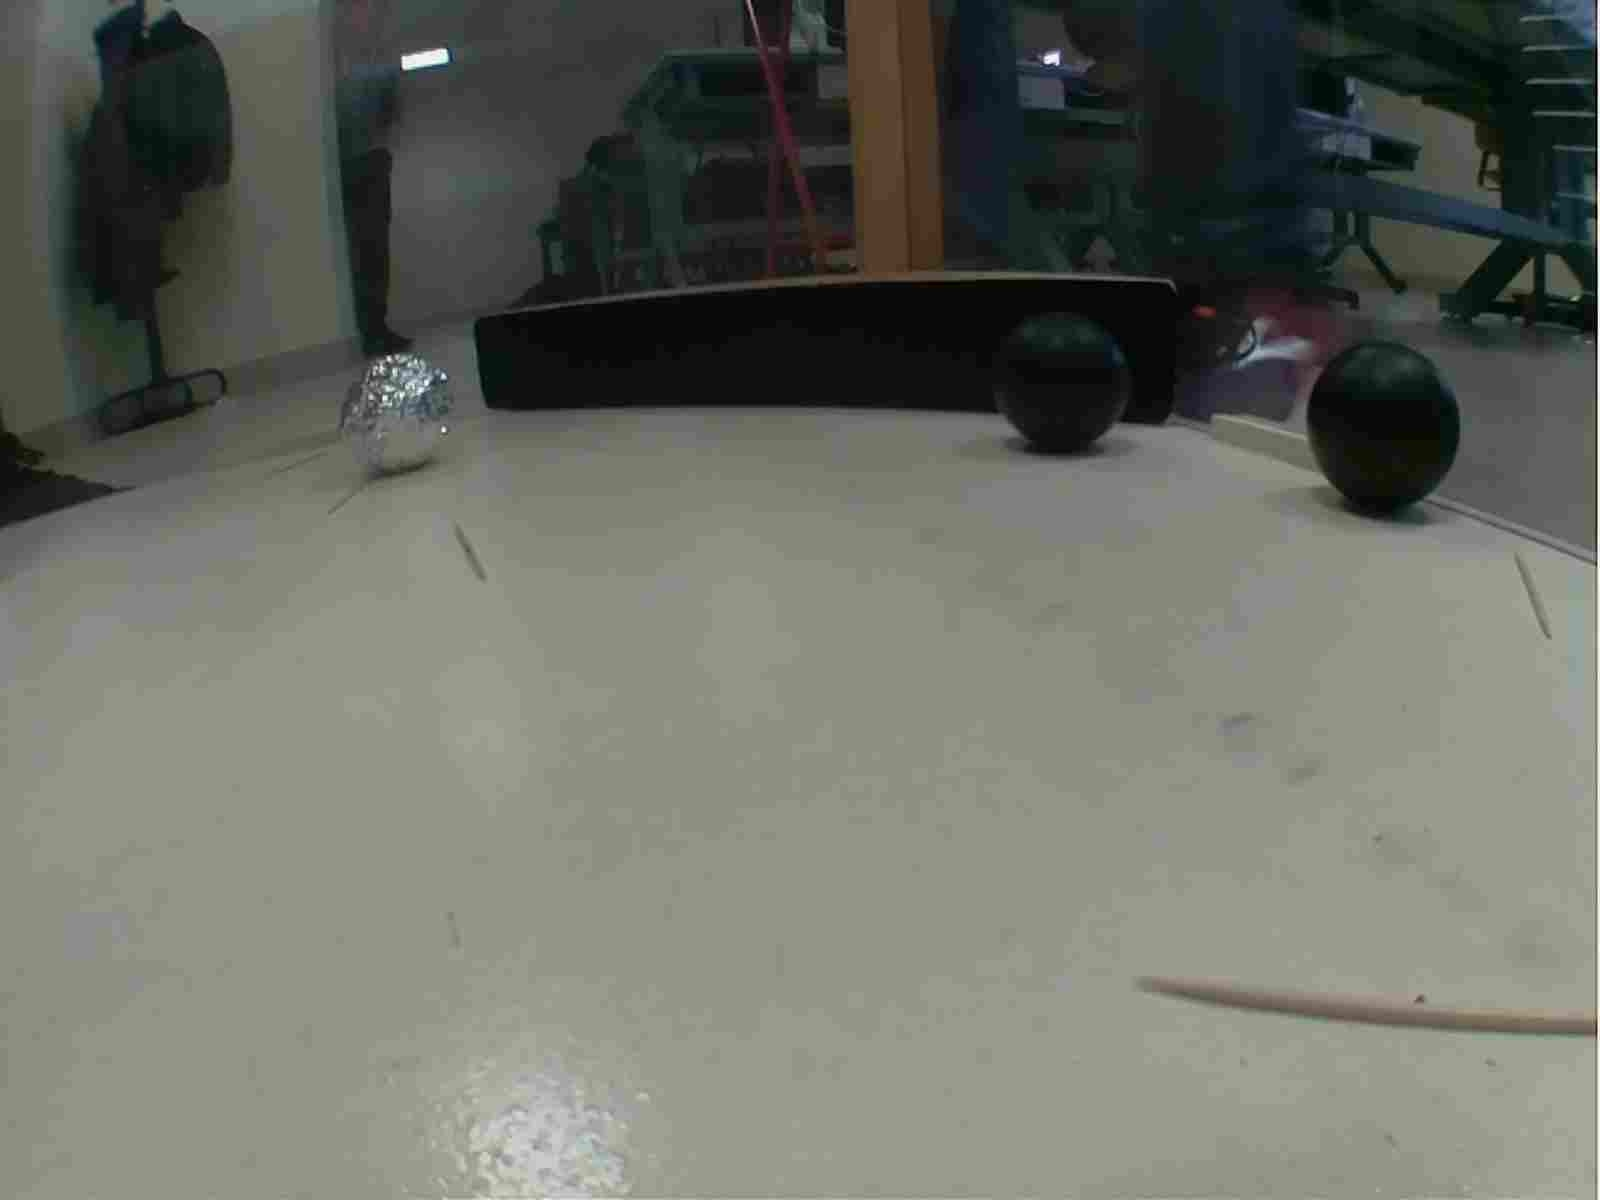bianca: (344, 355, 459, 484)
nera: (1305, 337, 1461, 521), (1000, 334, 1130, 461)
